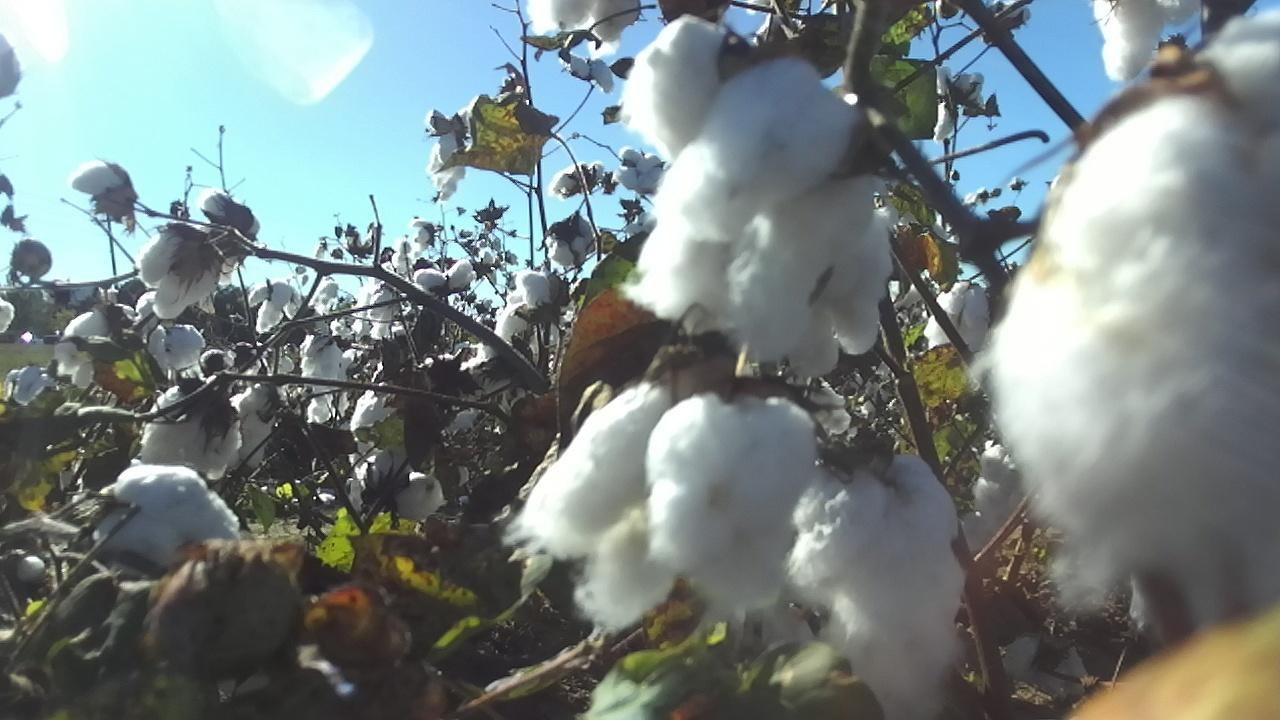cotton_ready: (985, 14, 1280, 617), (617, 57, 884, 358), (788, 449, 969, 720), (502, 382, 681, 625), (645, 397, 812, 611), (620, 17, 745, 165), (790, 210, 897, 377), (93, 464, 240, 566), (139, 389, 240, 482), (1095, 0, 1202, 80), (140, 230, 219, 321), (57, 304, 135, 390), (524, 0, 644, 50), (969, 437, 1020, 542), (348, 462, 445, 517), (1000, 637, 1087, 698), (204, 191, 262, 277), (926, 280, 989, 355), (497, 270, 559, 346), (227, 387, 279, 474), (137, 322, 205, 375), (352, 384, 400, 459), (936, 69, 985, 141), (545, 222, 597, 269), (71, 162, 129, 203), (300, 339, 344, 383), (0, 30, 22, 98)
